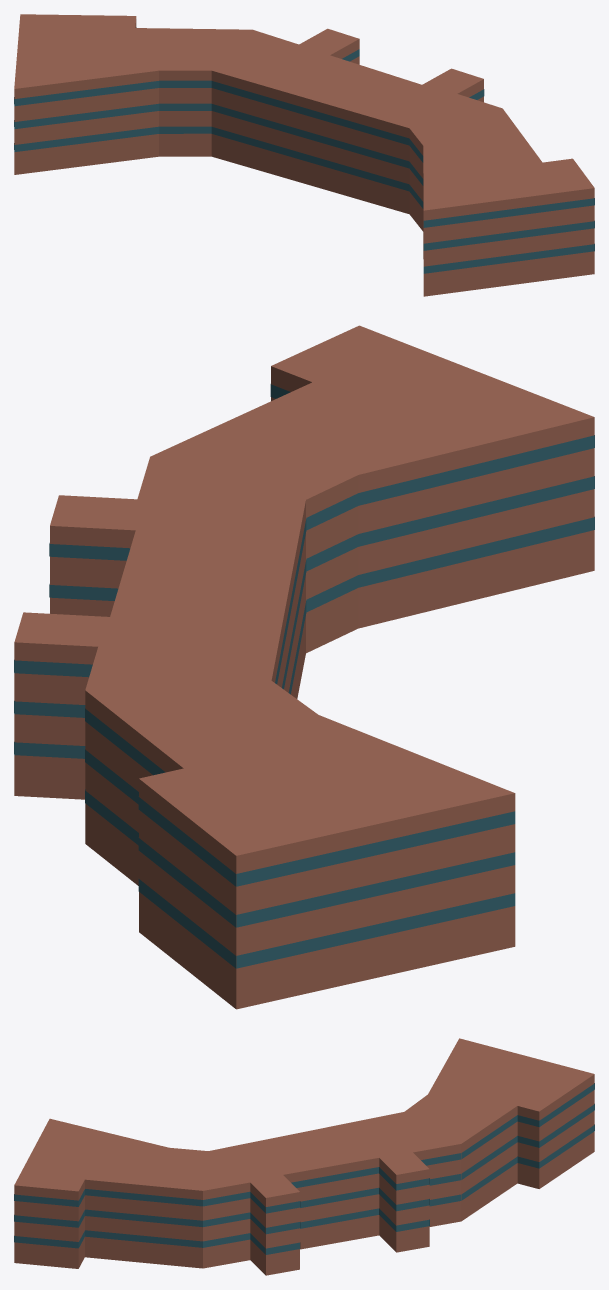
The model's file is city_7_-8.glb.
3 views of the same model, one above another, from view 1: azimuth 30°, elevation 25°; view 2: azimuth 150°, elevation 25°; view 3: azimuth 270°, elevation 25° (orthographic). The views are drawn at different scales.
Visible parts, largest first — view 1: city_7_-8; view 2: city_7_-8; view 3: city_7_-8.
Part boxes in pixels (<box>): city_7_-8: <box>14,14,594,296</box>; city_7_-8: <box>14,325,594,1009</box>; city_7_-8: <box>14,1038,594,1275</box>.
Bounding box in the file's own units: 66.23 × 15 × 102.
